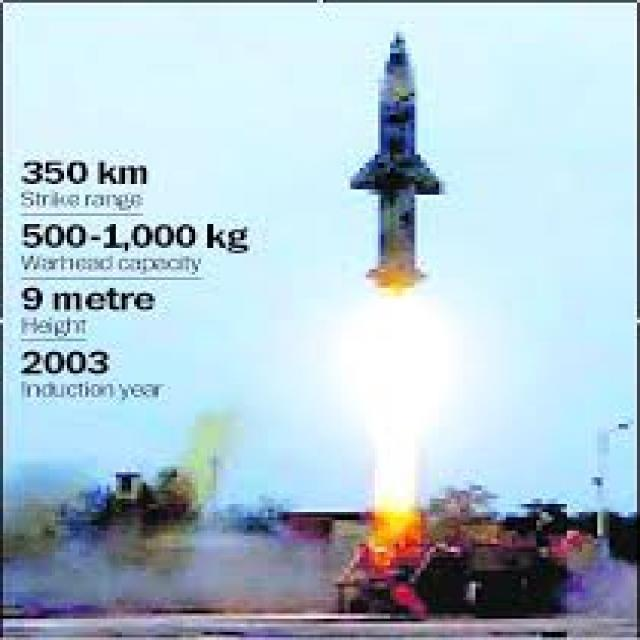Missile: (348, 25, 439, 297), (372, 17, 424, 286)
